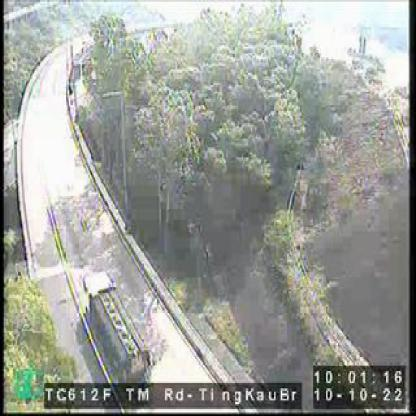Truck: (82, 271, 156, 380)
